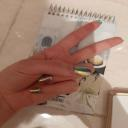PeaceSign: (4, 16, 126, 112)
